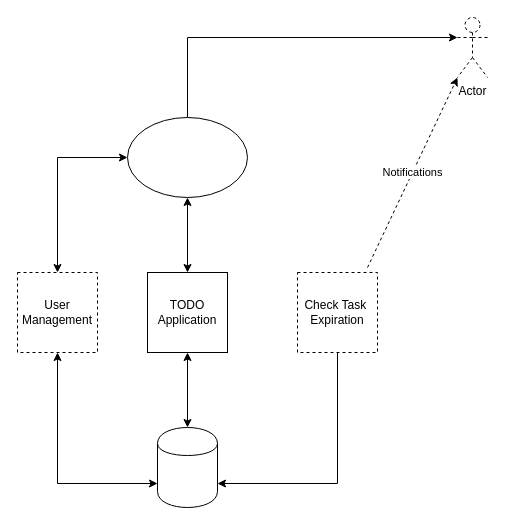
This 505x525 diagram has some shape labels left out. Each missing label, with the centre of its shape:
"dB" belongs at (x=187, y=467).
"Frontend" belongs at (x=187, y=157).
